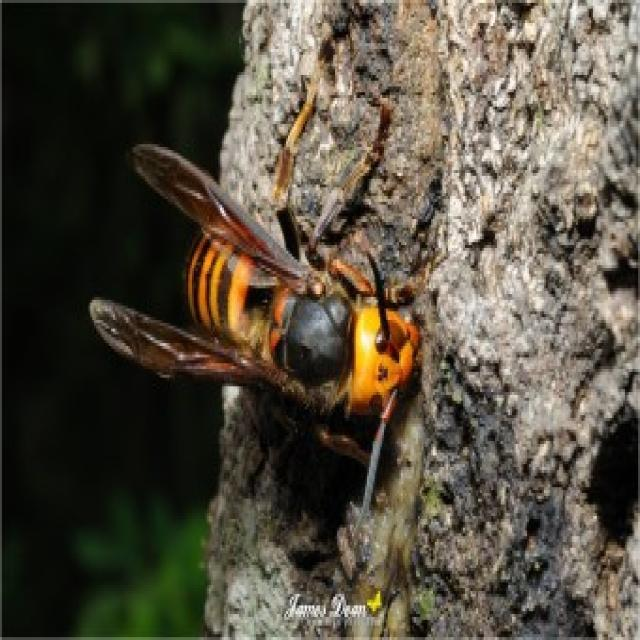Wasp: (94, 85, 424, 431)
